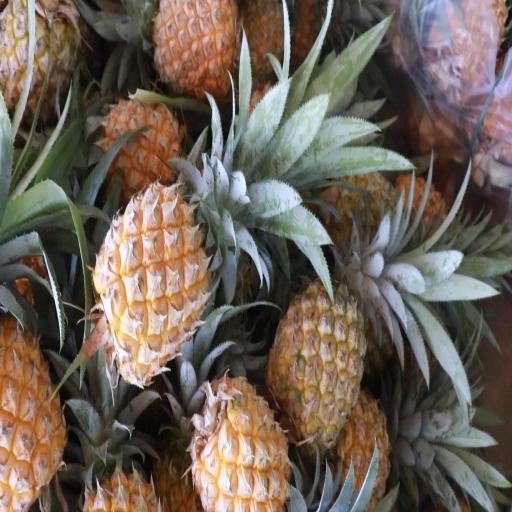------------------------------: (270, 278, 362, 437), (0, 0, 75, 115)
Pineapple - v8 v1: (96, 186, 208, 378), (190, 372, 291, 512), (0, 314, 64, 508), (152, 0, 237, 93), (101, 93, 185, 184)
